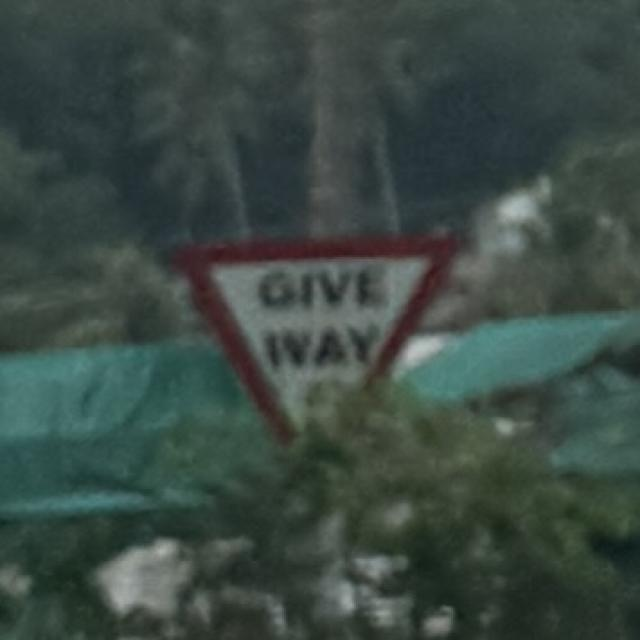GIVE_WAY: (170, 238, 467, 499)
